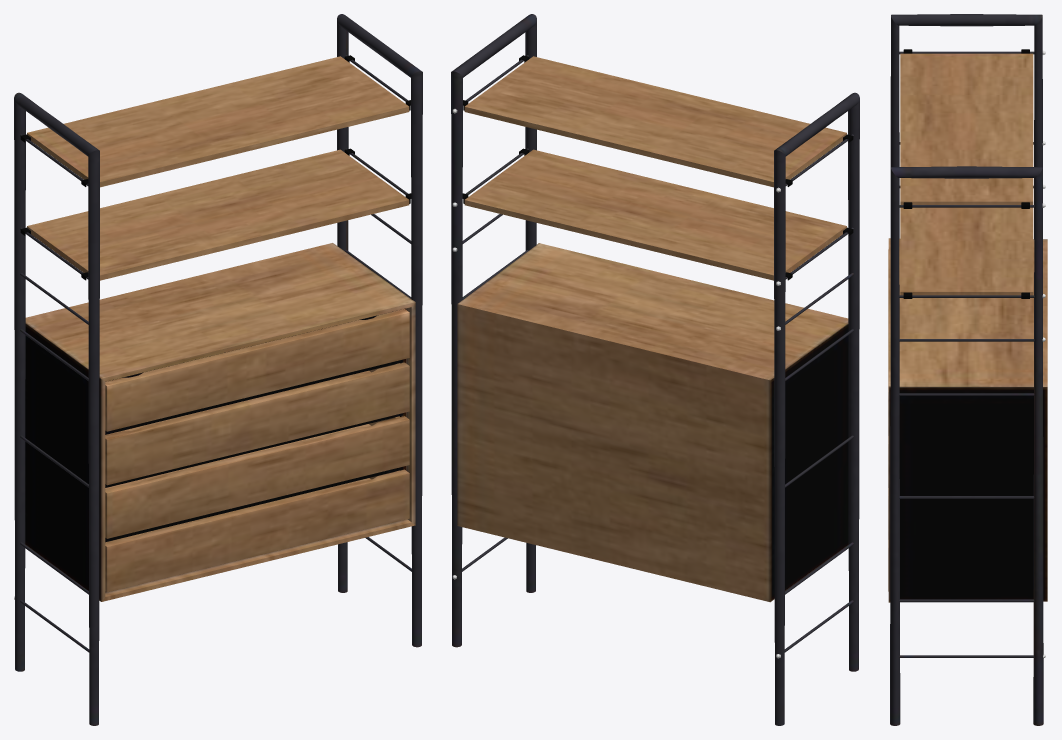
File: drawer_cabinet.glb
3 views of the same model, side by side, from view 1: azimuth 30°, elevation 25°; view 2: azimuth 150°, elevation 25°; view 3: azimuth 270°, elevation 25° (orthographic). The views are drawn at different scales.
Visible parts, largest first — view 1: drawer_cabinet, drawer_cabinet_drawer_03, drawer_cabinet_drawer_02, drawer_cabinet_drawer_04, drawer_cabinet_drawer_01; view 2: drawer_cabinet; view 3: drawer_cabinet.
Part boxes in pixels (x1,y1,x2,y2): drawer_cabinet: [14, 14, 422, 725]; drawer_cabinet_drawer_03: [105, 416, 409, 538]; drawer_cabinet_drawer_02: [105, 362, 409, 485]; drawer_cabinet_drawer_04: [105, 469, 409, 592]; drawer_cabinet_drawer_01: [105, 309, 409, 431]; drawer_cabinet: [451, 14, 859, 725]; drawer_cabinet: [888, 14, 1047, 725].
Bounding box in the file's own units: 1.14 × 1.88 × 0.4881.
1 material, 1 textured.
